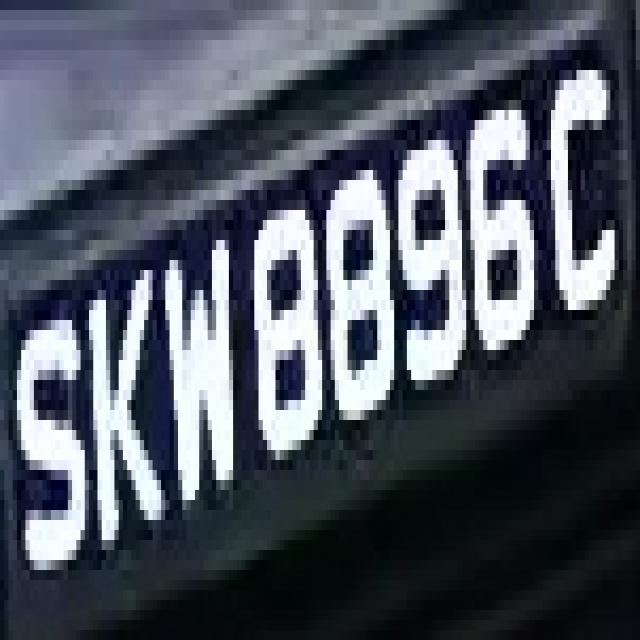6: (458, 70, 547, 360)
8: (314, 150, 402, 450), (246, 190, 326, 480)
9: (382, 100, 471, 430)
C: (542, 40, 628, 330)
K: (72, 220, 170, 560)
S: (8, 290, 89, 600)
W: (148, 200, 246, 520)
